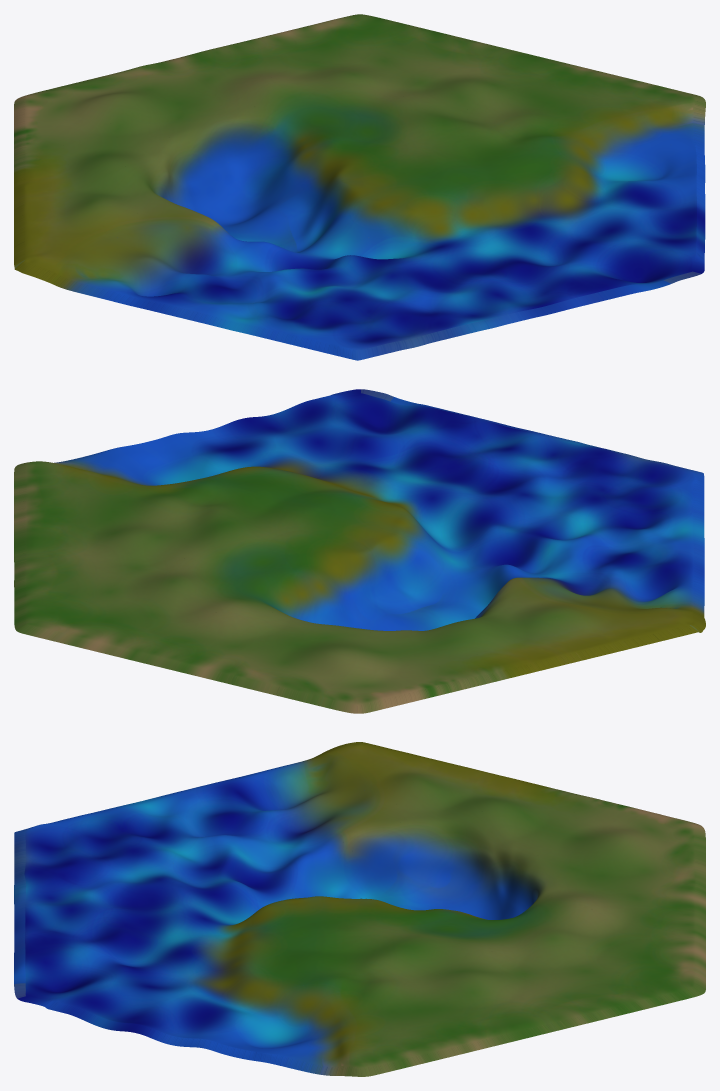
File: Costal2.glb
3 renders of one model, top to bottom at view 1: azimuth 30°, elevation 25°; view 2: azimuth 150°, elevation 25°; view 3: azimuth 270°, elevation 25°, orthographic.
Visible parts, largest first — view 1: Circle; view 2: Circle; view 3: Circle.
Boxes of the visible parts, x1=… form: Circle: x1=14, y1=14, x2=705, y2=360; Circle: x1=14, y1=389, x2=705, y2=713; Circle: x1=14, y1=742, x2=705, y2=1076.
Bounding box in the file's own units: 408 × 44 × 355.
Materials: 1 (1 with a texture image).
